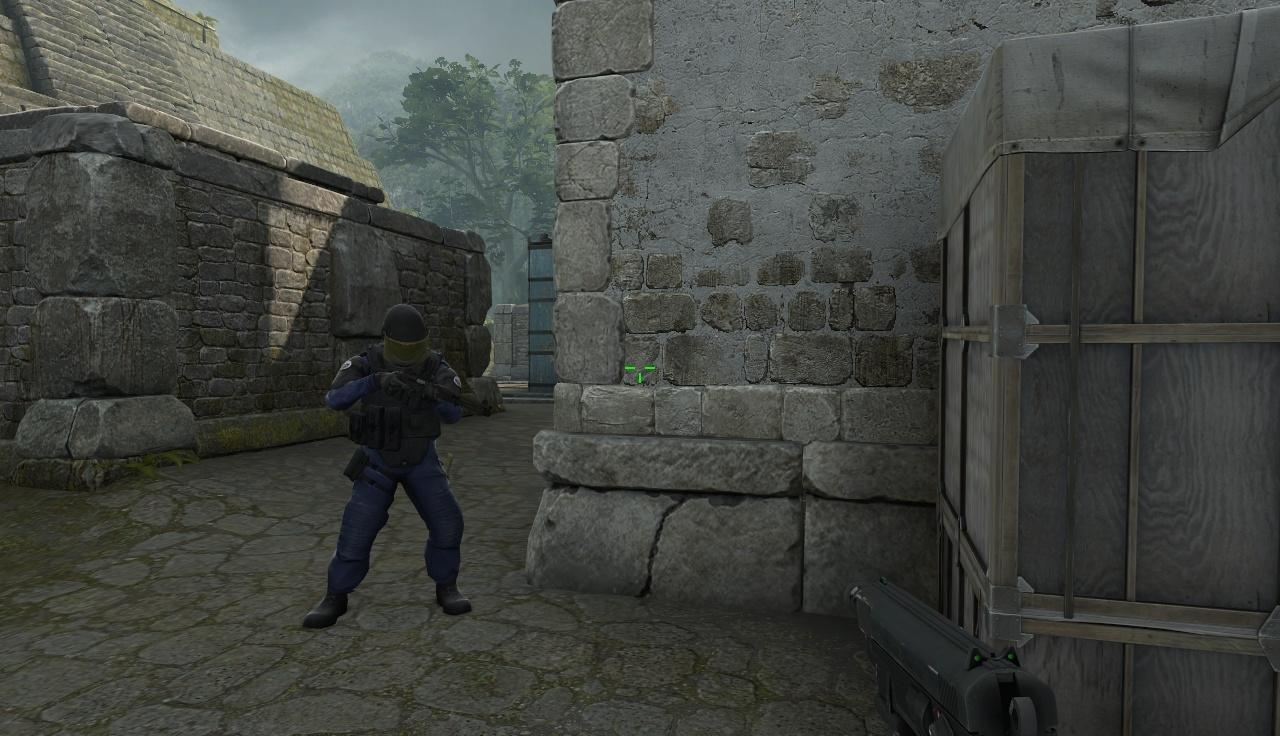ct: (334, 311, 454, 621)
cthead: (382, 304, 433, 365)
pistol: (831, 579, 1117, 736)
